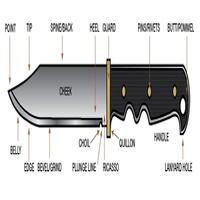knife: (4, 54, 196, 135)
